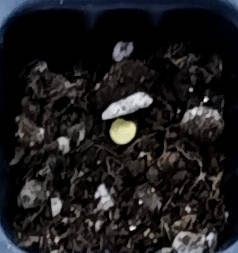pepper seed: (39, 45, 177, 190)
